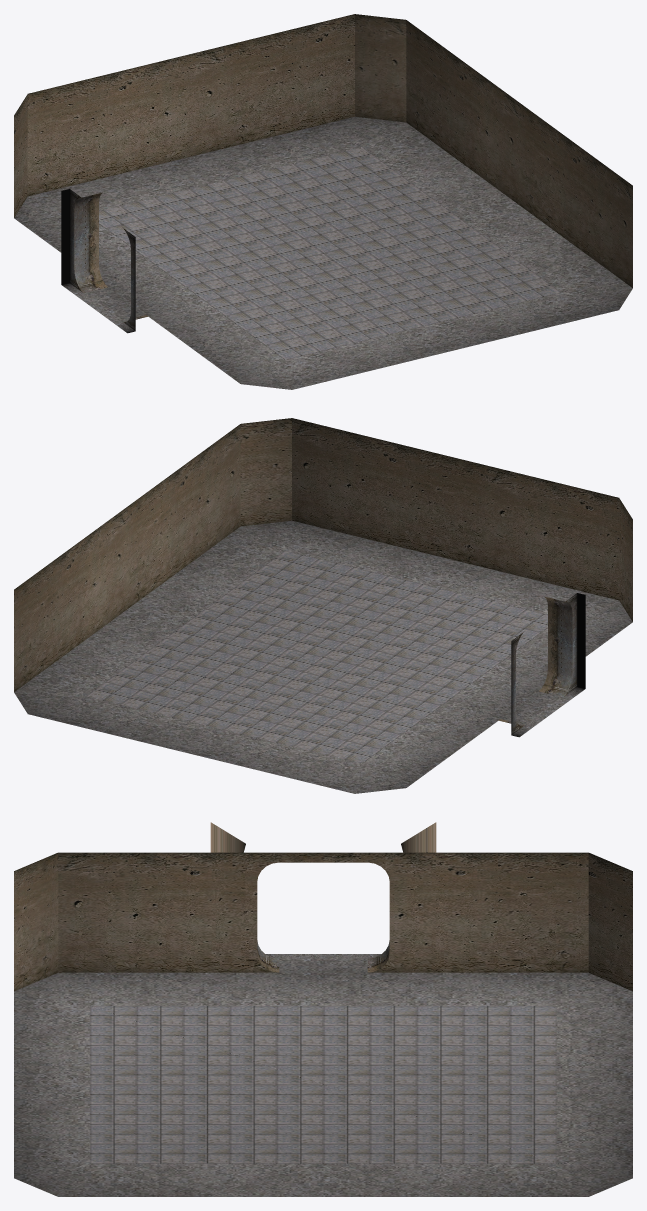
File: M11Z2_ShelterInt_A.glb
3 views of the same model, one above another, from view 1: azimuth 30°, elevation 25°; view 2: azimuth 150°, elevation 25°; view 3: azimuth 270°, elevation 25° (orthographic). The views are drawn at different scales.
Visible parts, largest first — view 1: M11Z2_SHELTERINT_A; view 2: M11Z2_SHELTERINT_A; view 3: M11Z2_SHELTERINT_A.
Part boxes in pixels (x1,y1,x2,y2): M11Z2_SHELTERINT_A: [14, 14, 632, 389]; M11Z2_SHELTERINT_A: [14, 418, 632, 793]; M11Z2_SHELTERINT_A: [14, 822, 632, 1196].
Size of the model in its own units: 13 by 3.85 by 14.
Materials: 5 (5 with a texture image).
